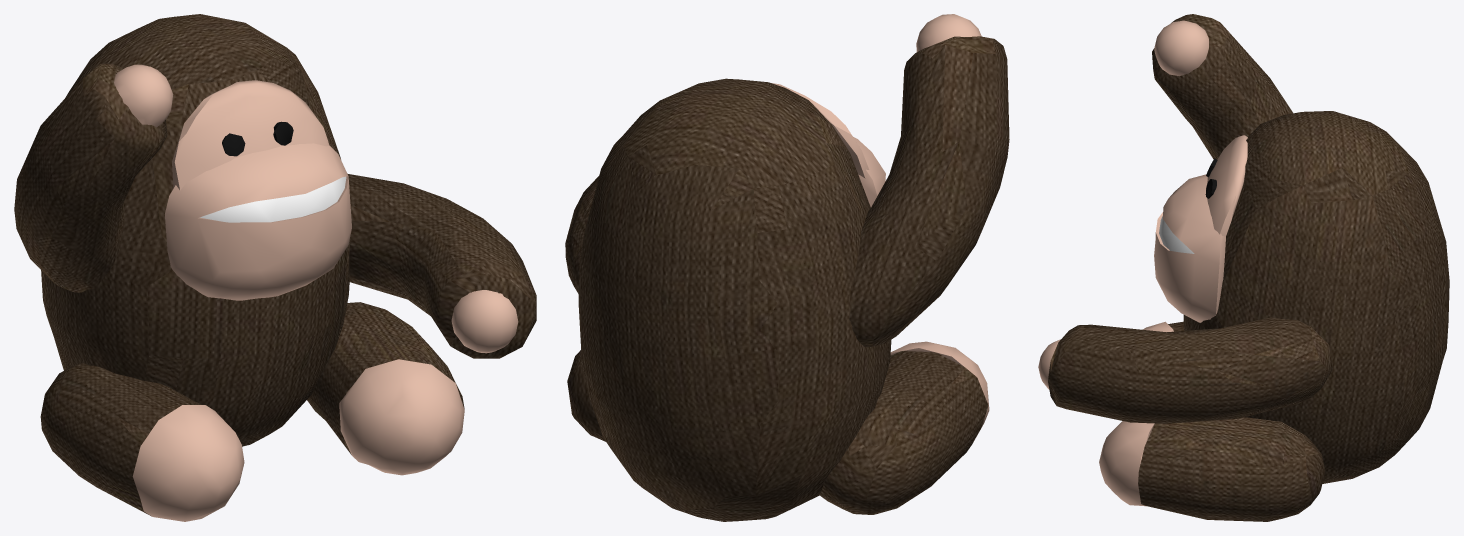
The model's file is Monkey.FBX.
3 renders of one model, left to right at view 1: azimuth 30°, elevation 25°; view 2: azimuth 150°, elevation 25°; view 3: azimuth 270°, elevation 25°, orthographic. The views are drawn at different scales.
Visible parts, largest first — view 1: monkey; view 2: monkey; view 3: monkey.
Boxes of the visible parts, x1,y1,x2,y2 form: monkey: (14,14,536,521); monkey: (565,14,1009,521); monkey: (1038,14,1449,521).
Bounding box in the file's own units: 30.27 × 31.16 × 29.42.
Materials: 1 (1 with a texture image).
